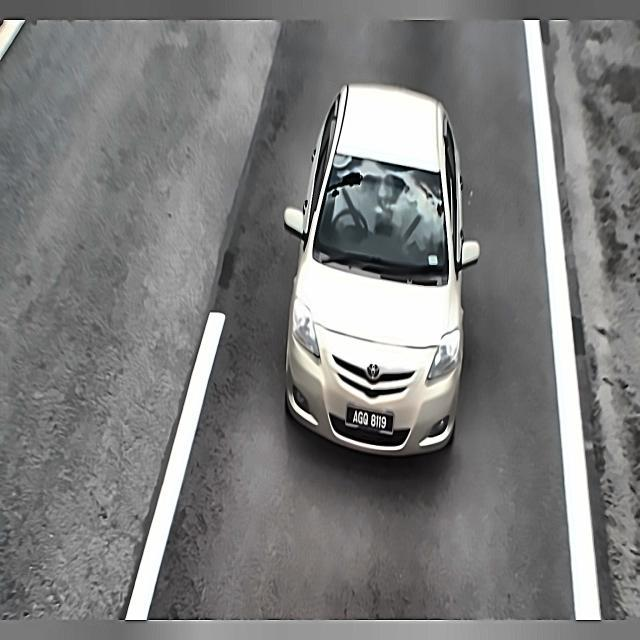car: (342, 396, 398, 437)
